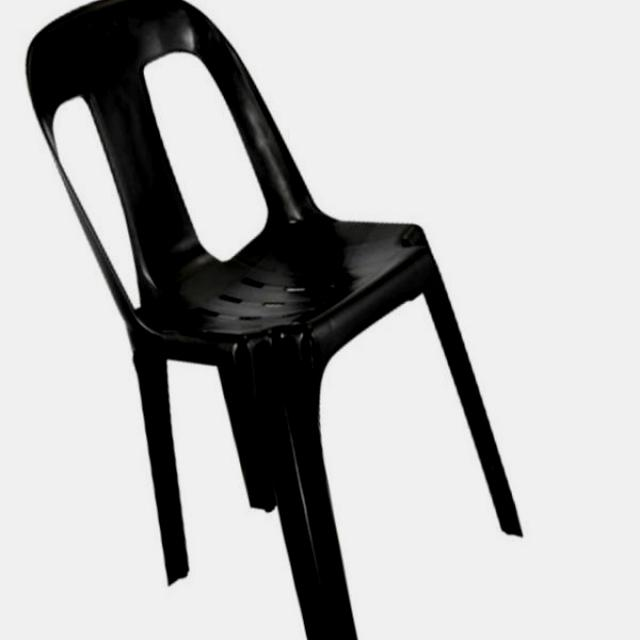Chair: (22, 2, 527, 640)
